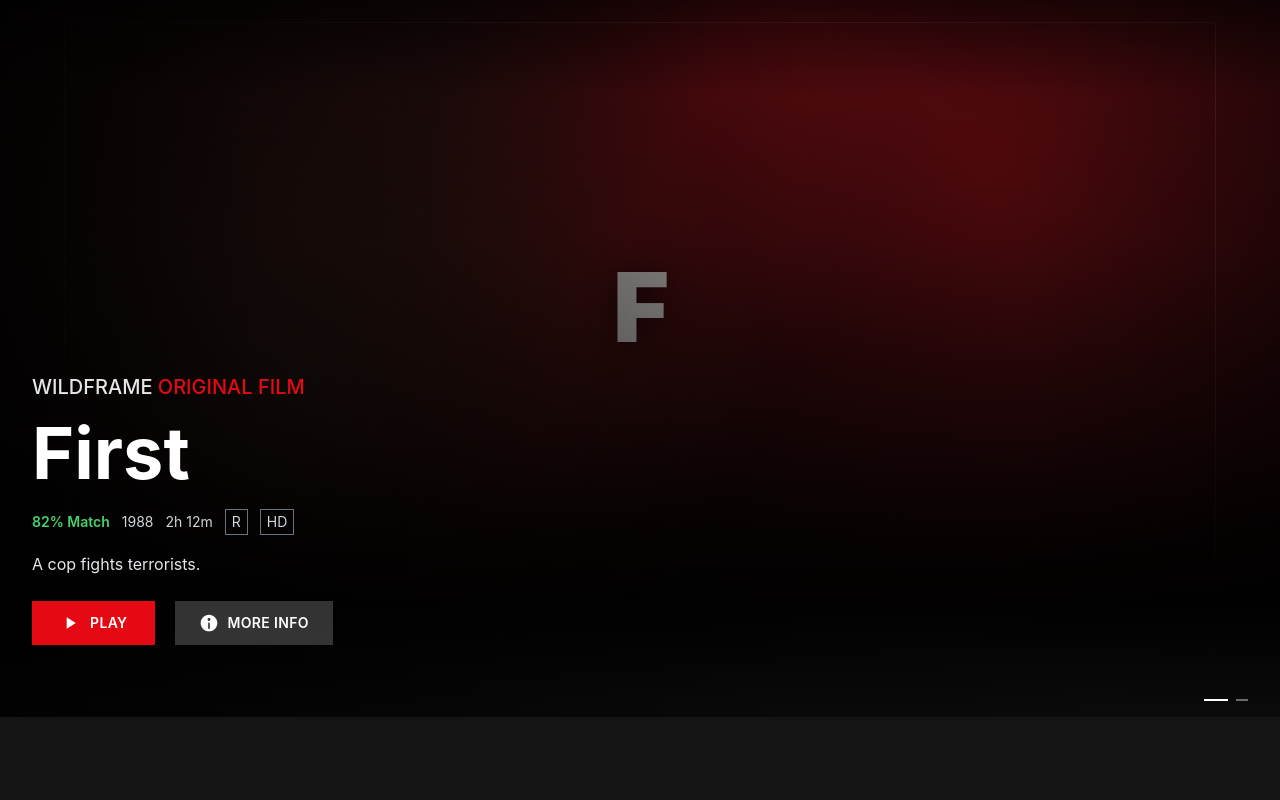
Test: HeroBanner › formats the first slide but allows switching via dot
This screenshot has width=1280, height=800.
Expected: the heading reads "First", left=32, top=409, right=190, bottom=496
What coordinates should you click on to do the following:
click the button named "Go to slide 2"
I would click on:
 (1242, 700)
Its box is left=1236, top=699, right=1248, bottom=701.
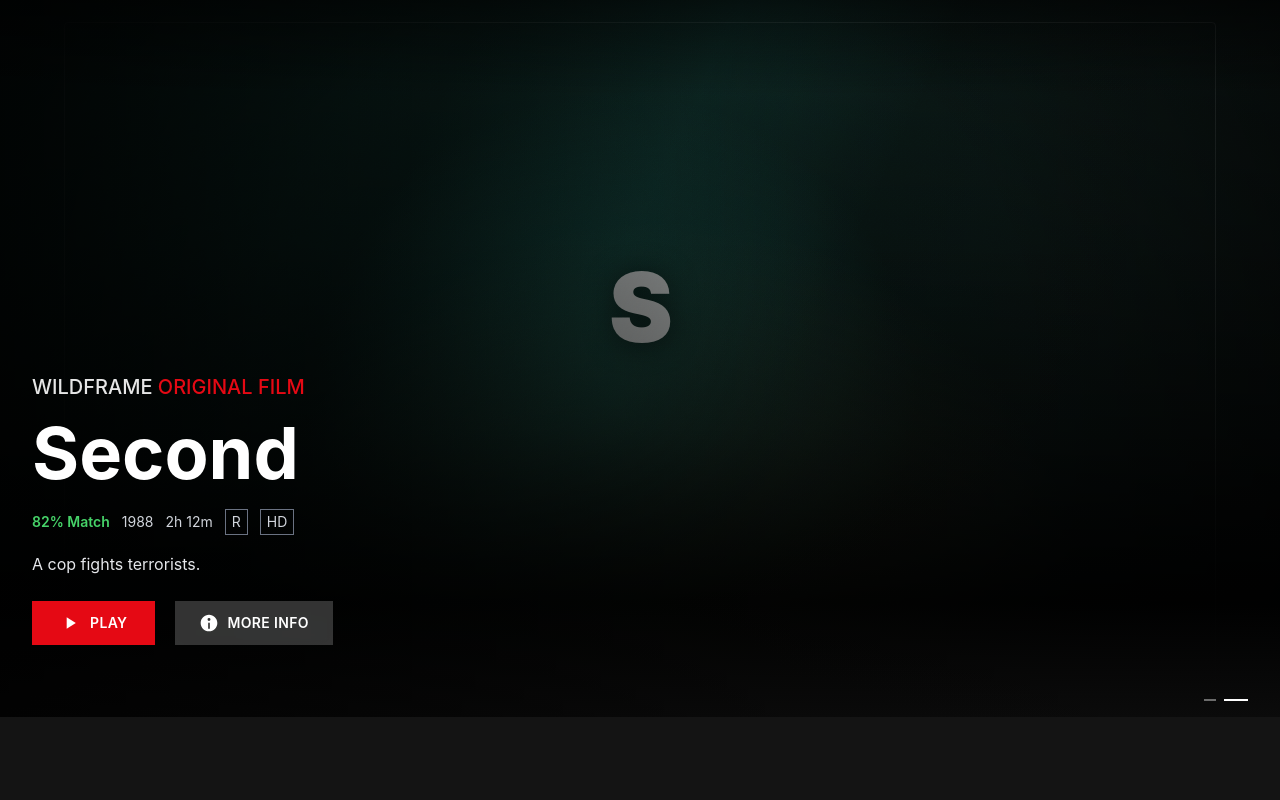
Expected: the heading reads "Second", left=32, top=409, right=299, bottom=496
